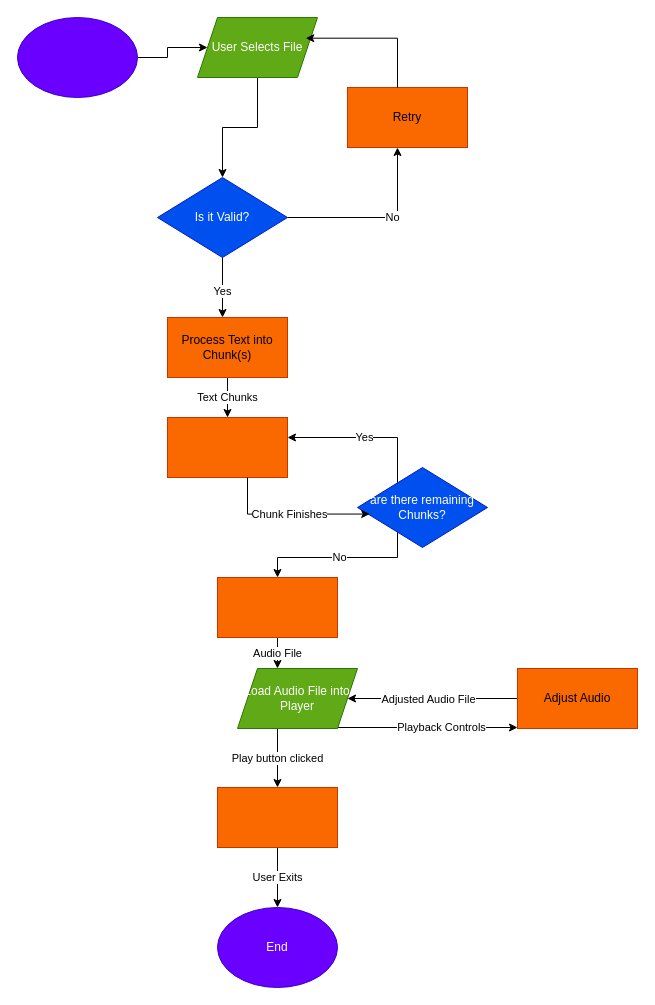
Image size: 655x1005. Some labels were removed from this diagram. Here are the shapes that lost their labels. From the top down, the centre of each, then its label:
At point (77, 57): "Start".
At point (227, 447): "Generate TTS".
At point (277, 607): "Combine Audio(s)".
At point (277, 817): "Play Audio".
